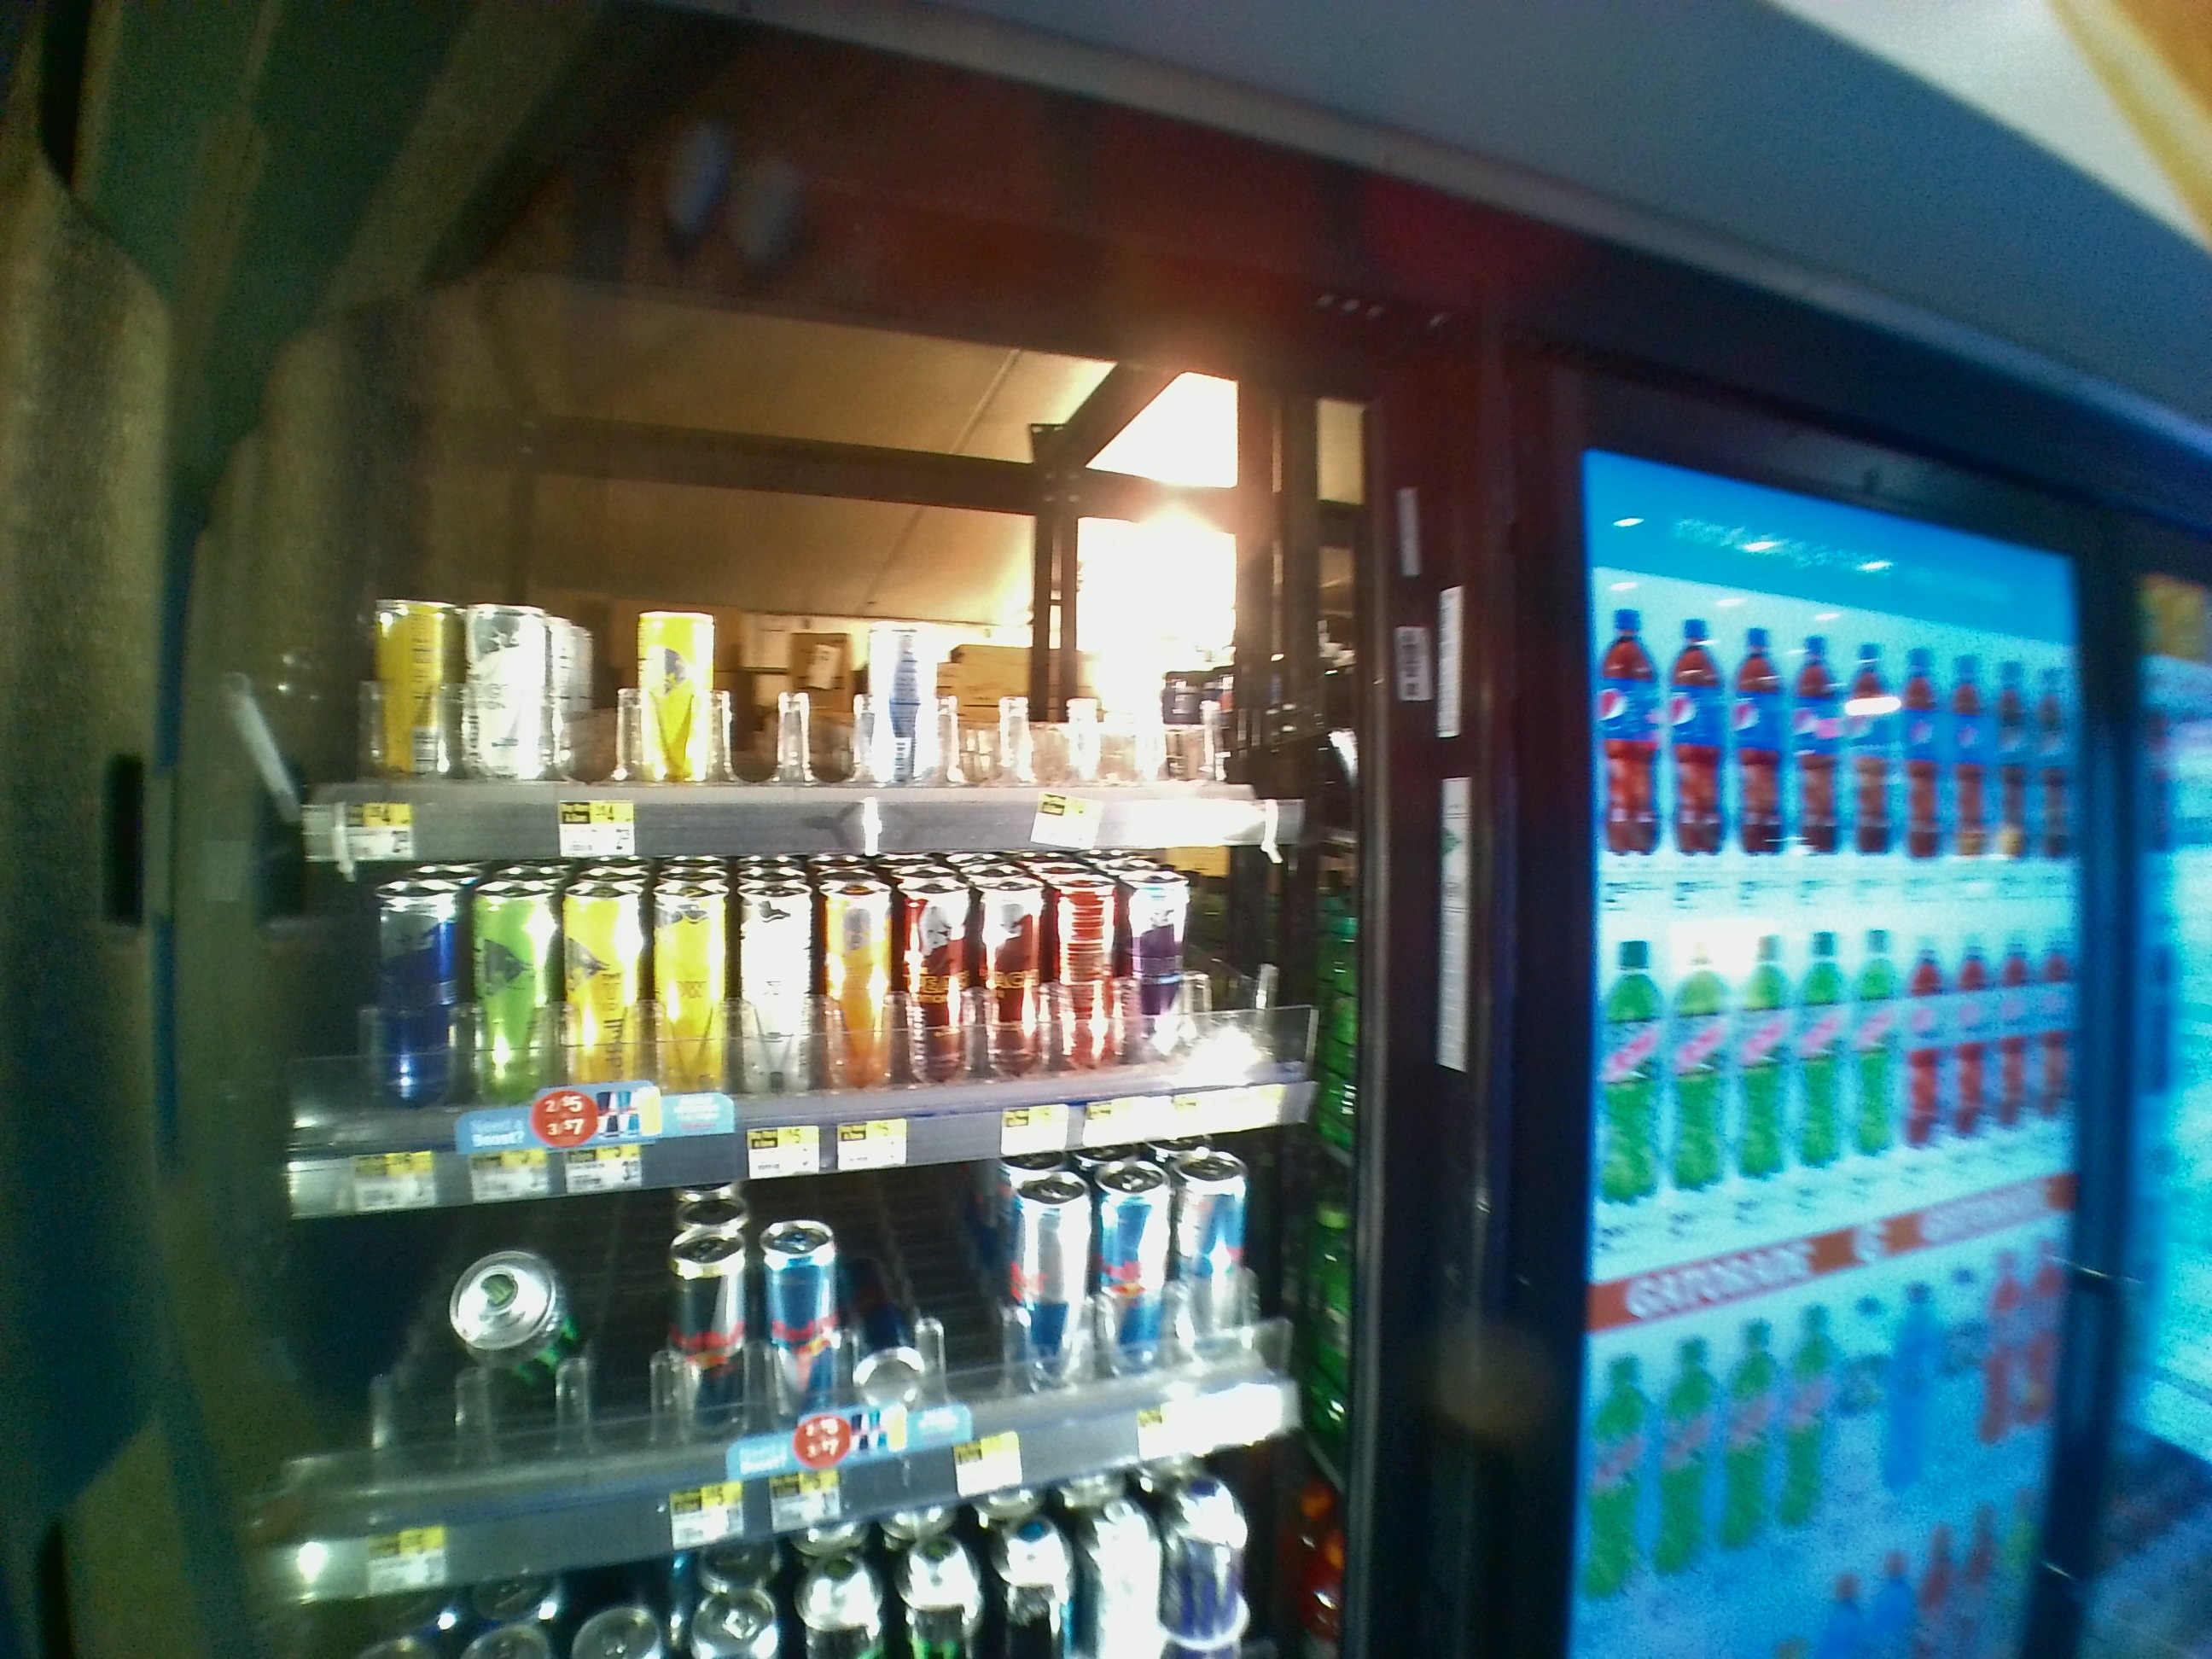shelf: (305, 289, 1360, 854)
